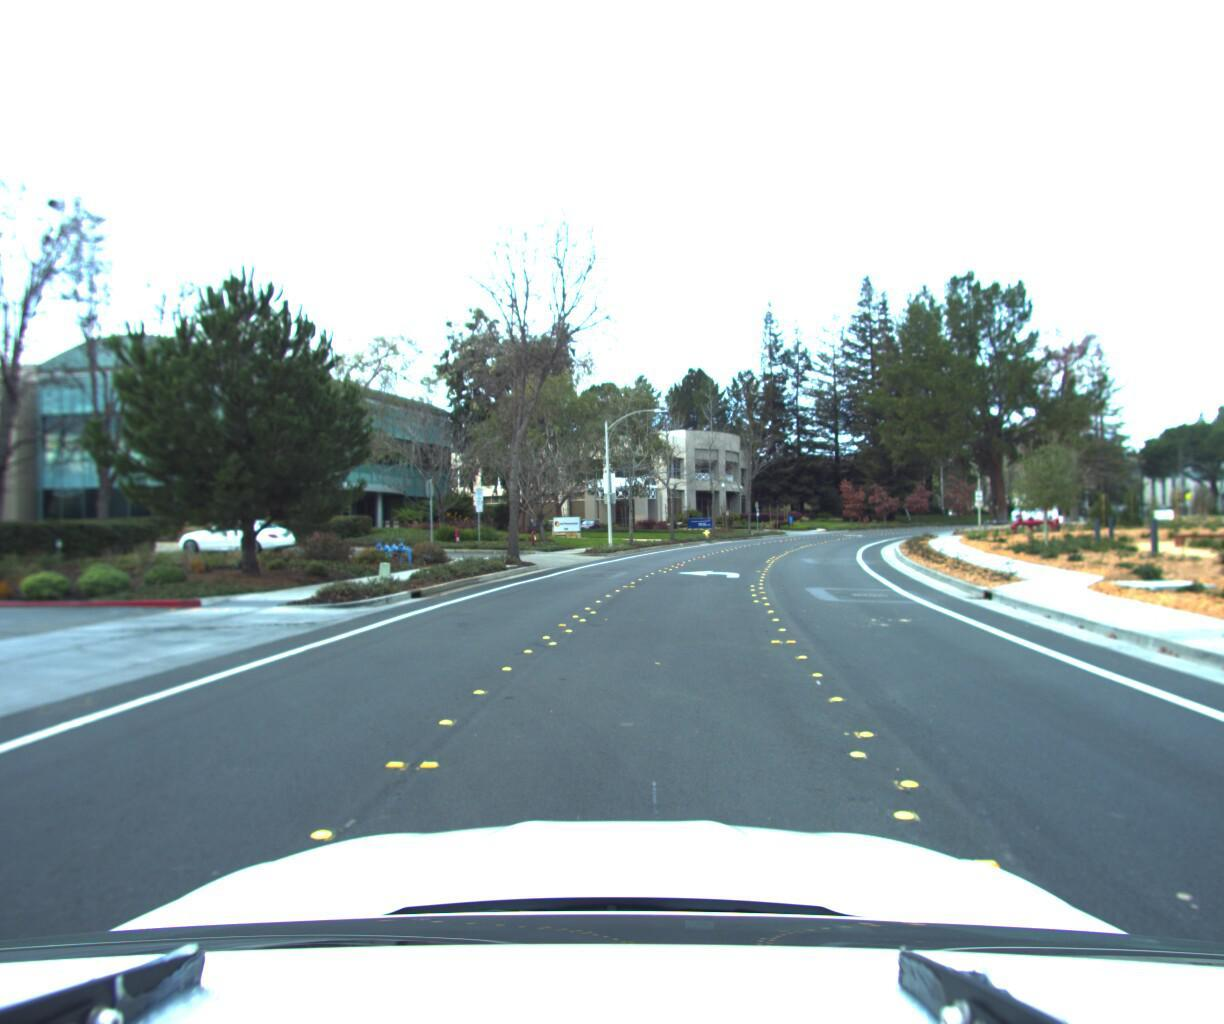car: (179, 518, 304, 562)
